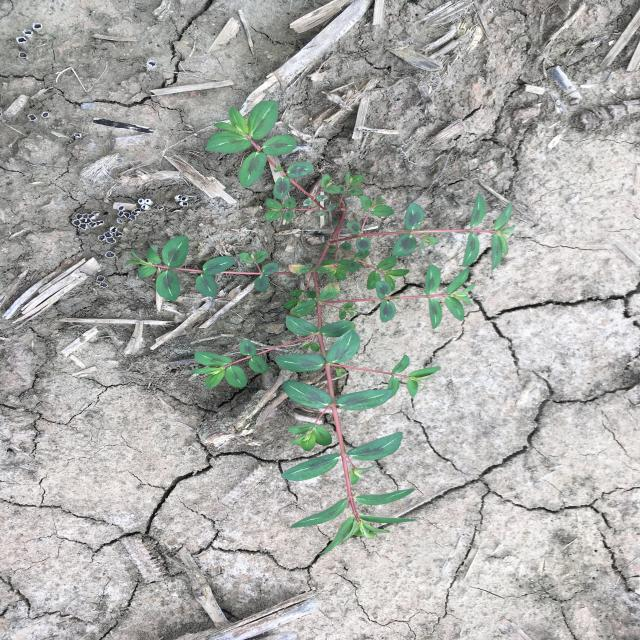SpottedSpurge: (125, 100, 516, 554)
